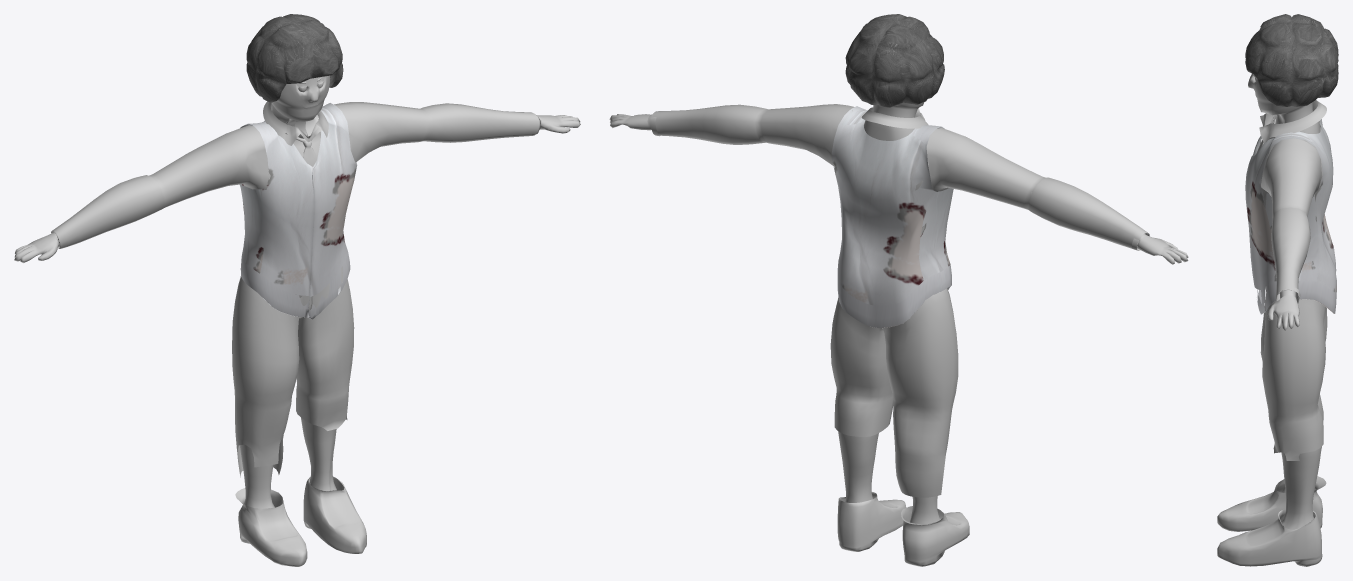
The model's file is enemy1.fbx.
3 views of the same model, side by side, from view 1: azimuth 30°, elevation 25°; view 2: azimuth 150°, elevation 25°; view 3: azimuth 270°, elevation 25° (orthographic). The views are drawn at different scales.
Parts seen in each view (by area): view 1: Doctorshirt, Doctorvest, Doctor2trousers1, Doctorbody, Doctorshoes, Doctorhair; view 2: Doctorvest, Doctorshirt, Doctor2trousers1, Doctorhair, Doctorshoes, Doctorbody; view 3: Doctor2trousers1, Doctorvest, Doctorshirt, Doctorhair, Doctorshoes, Doctorbody.
Part boxes in pixels (box(x1,y1,x2,y2)): Doctorshirt: box(51, 101, 540, 248); Doctorvest: box(240, 103, 357, 319); Doctor2trousers1: box(232, 266, 354, 477); Doctorbody: box(14, 75, 580, 508); Doctorshoes: box(235, 476, 366, 566); Doctorhair: box(246, 14, 343, 102); Doctorvest: box(831, 106, 953, 327); Doctorshirt: box(650, 104, 1149, 250); Doctor2trousers1: box(830, 288, 958, 497); Doctorhair: box(845, 14, 944, 107); Doctorshoes: box(837, 492, 969, 566); Doctorbody: box(609, 102, 1188, 523); Doctor2trousers1: box(1260, 287, 1327, 460); Doctorvest: box(1245, 119, 1336, 314); Doctorshirt: box(1259, 100, 1326, 303); Doctorhair: box(1245, 14, 1338, 106); Doctorshoes: box(1217, 476, 1326, 566); Doctorbody: box(1248, 73, 1322, 529).
Bounding box in the file's own units: 8.05 × 7.02 × 1.47.
